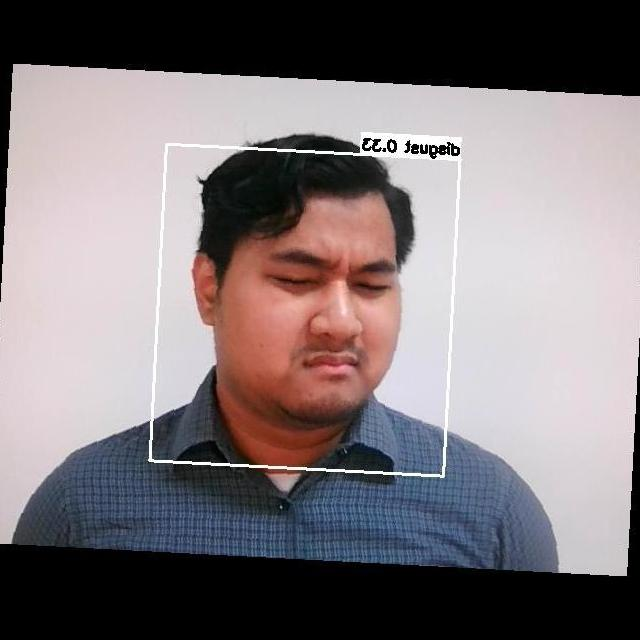Disgust: (236, 232, 415, 398)
